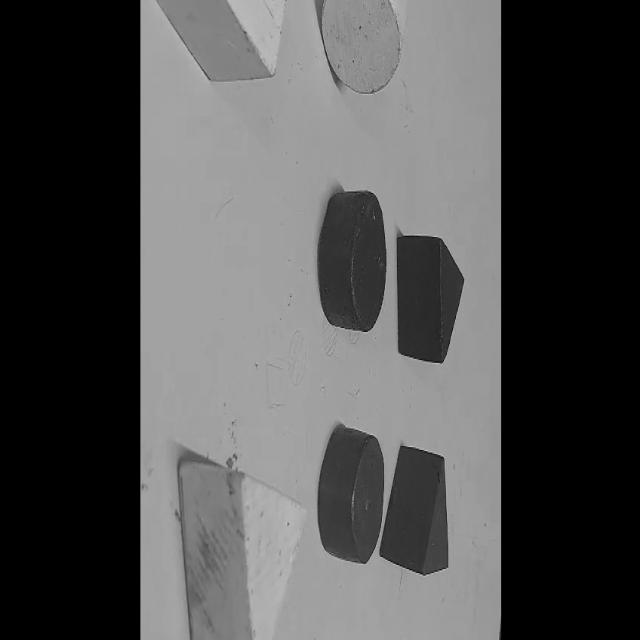bcircle: (317, 188, 387, 334)
btriangle: (396, 232, 465, 368)
rcircle: (316, 426, 384, 565)
rtriangle: (379, 444, 449, 577)
ycircle: (321, 1, 407, 96)
ycube: (156, 1, 280, 84)
ytriangle: (178, 459, 304, 636)
